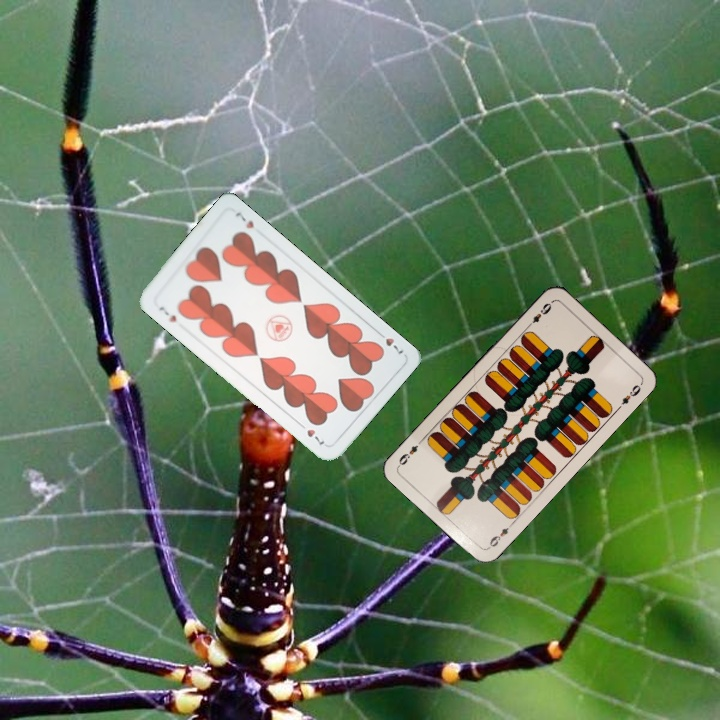E9: (484, 519, 516, 551), (523, 299, 554, 331)
H7: (373, 327, 406, 357), (155, 302, 179, 325)
